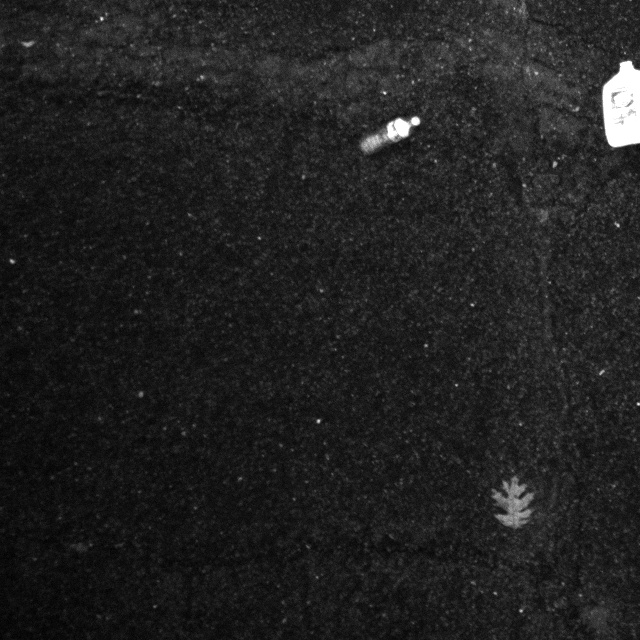bottle: (350, 105, 423, 162)
